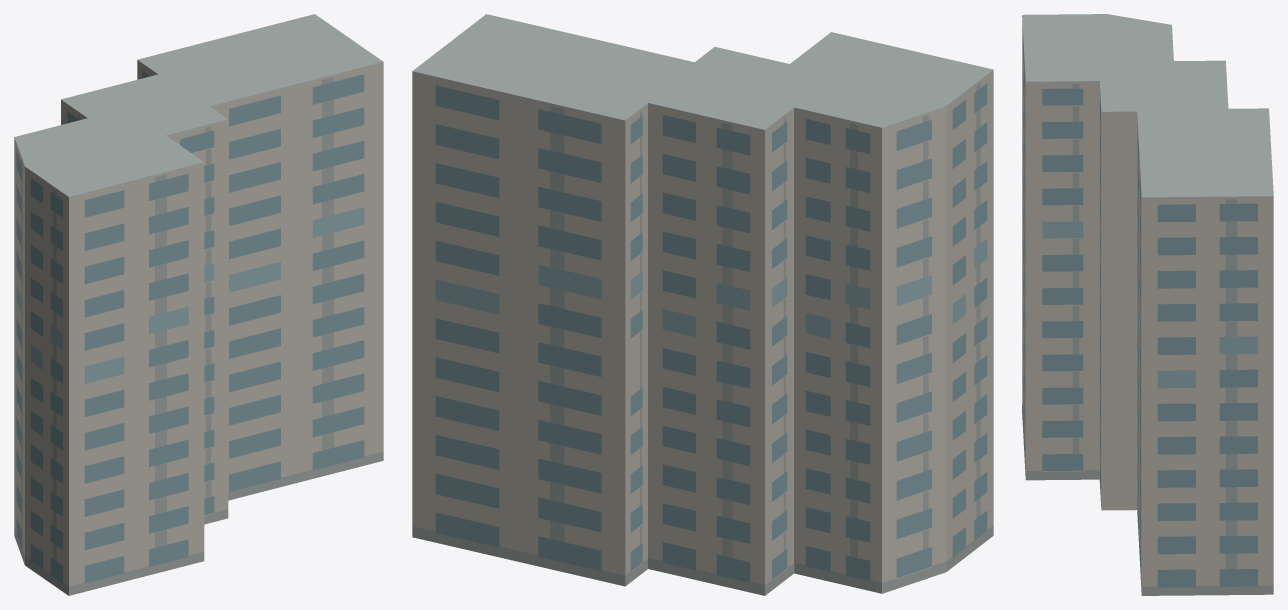
File: residential-2c5b28f7-efbf-4857-b1d6-768f4b5cfce9.glb
3 views of the same model, side by side, from view 1: azimuth 30°, elevation 25°; view 2: azimuth 150°, elevation 25°; view 3: azimuth 270°, elevation 25° (orthographic). The views are drawn at different scales.
Parts seen in each view (by area): view 1: residential-2c5b28f7-efbf-4857-b1d6-768f4b5cfce9.tmp; view 2: residential-2c5b28f7-efbf-4857-b1d6-768f4b5cfce9.tmp; view 3: residential-2c5b28f7-efbf-4857-b1d6-768f4b5cfce9.tmp.
Part boxes in pixels (x1=…): residential-2c5b28f7-efbf-4857-b1d6-768f4b5cfce9.tmp: x1=14, y1=14, x2=383, y2=595; residential-2c5b28f7-efbf-4857-b1d6-768f4b5cfce9.tmp: x1=412, y1=14, x2=993, y2=595; residential-2c5b28f7-efbf-4857-b1d6-768f4b5cfce9.tmp: x1=1022, y1=14, x2=1273, y2=595.
Bounding box in the file's own units: 37.51 × 38 × 21.75.
